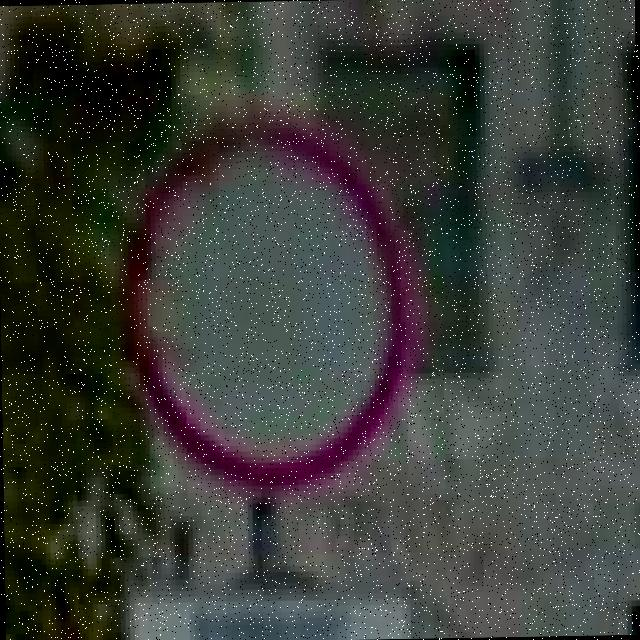Zakaz ruchu w obu kierunkach: (116, 113, 418, 500)
